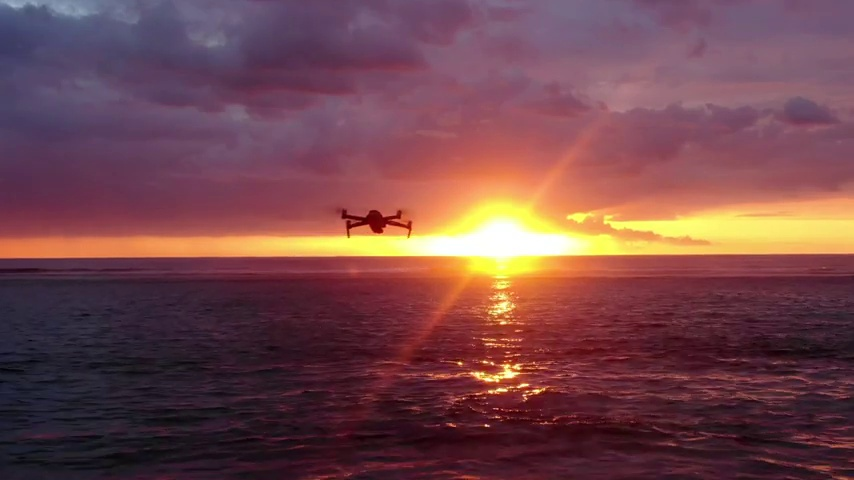drone: (340, 207, 413, 238)
